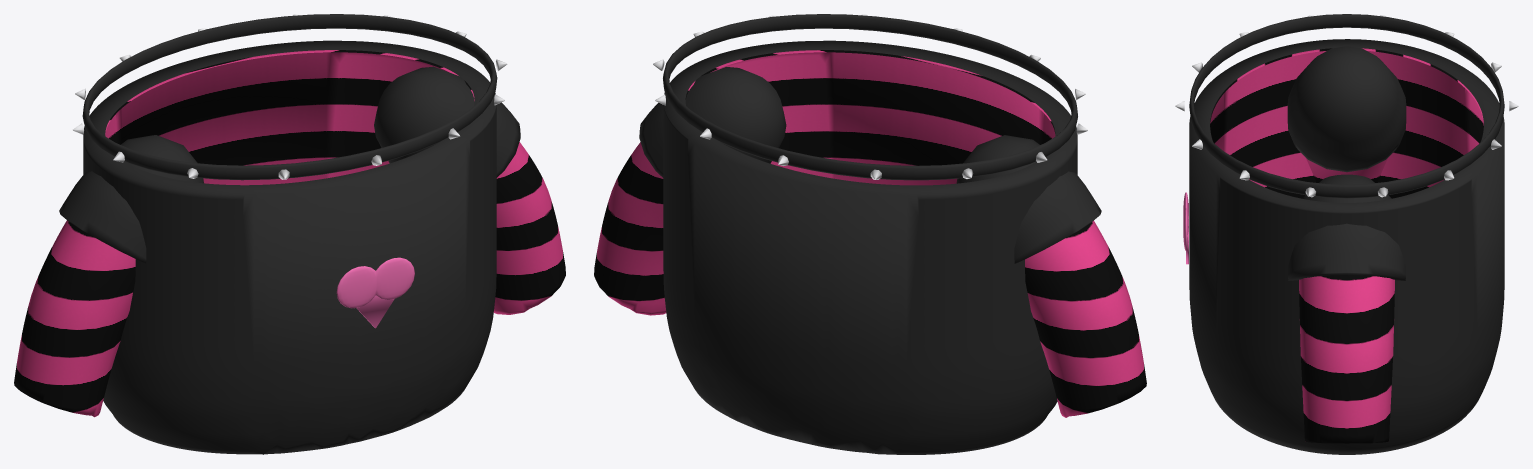
Rendered from emotop1.fbx.
3 views of the same model, side by side, from view 1: azimuth 30°, elevation 25°; view 2: azimuth 150°, elevation 25°; view 3: azimuth 270°, elevation 25° (orthographic). The views are drawn at different scales.
Visible parts, largest first — view 1: emotop1; view 2: emotop1; view 3: emotop1.
Part boxes in pixels (left/top/right/bottom): emotop1: left=14, top=14, right=565, bottom=454; emotop1: left=594, top=14, right=1146, bottom=454; emotop1: left=1175, top=14, right=1518, bottom=454.
Size of the model in its own units: 1.24 by 0.6564 by 0.7284.
4 materials, 1 textured.
